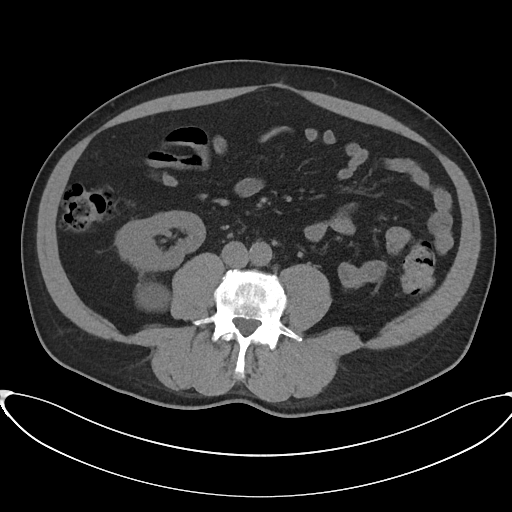Lesion: (136, 282, 173, 315)
